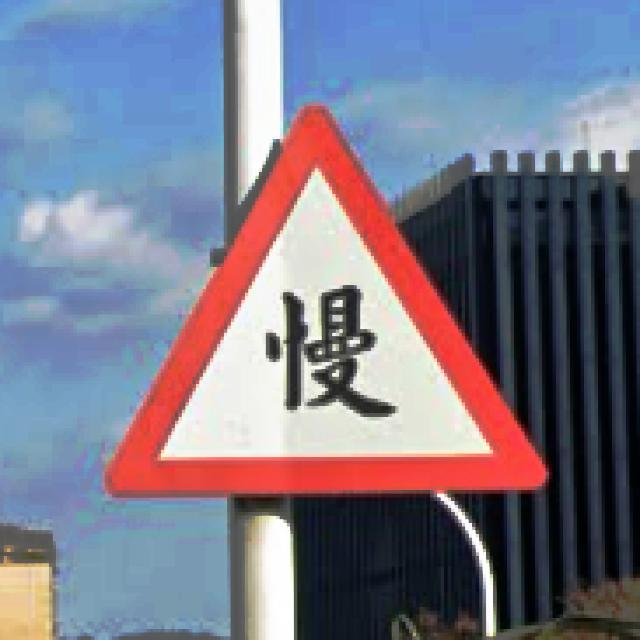slow: (102, 99, 552, 501)
